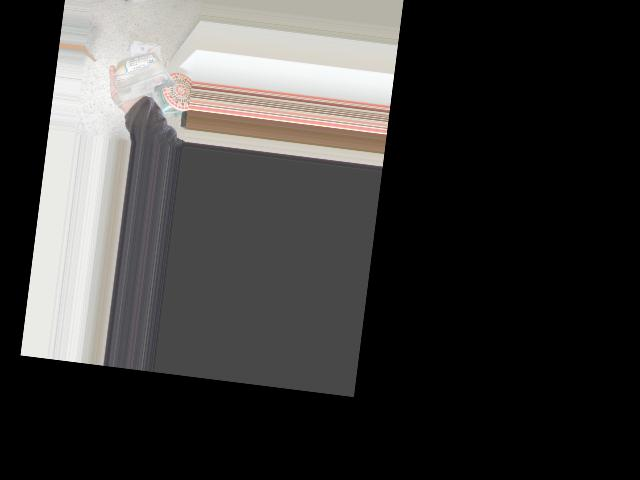cheese: (124, 34, 159, 100)
